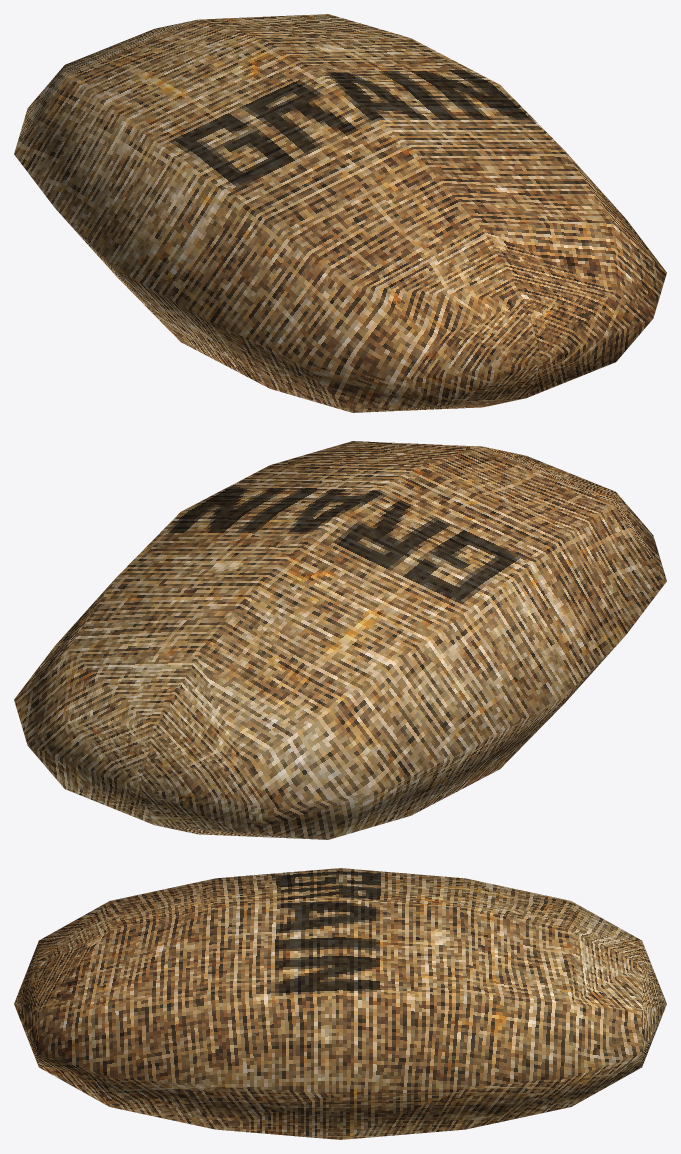
The model's file is BagGrain.glb.
3 renders of one model, top to bottom at view 1: azimuth 30°, elevation 25°; view 2: azimuth 150°, elevation 25°; view 3: azimuth 270°, elevation 25°, orthographic. The views are drawn at different scales.
Visible parts, largest first — view 1: BagGrain; view 2: BagGrain; view 3: BagGrain.
Part boxes in pixels (box(x1,y1,x2,y2)): BagGrain: box(14, 14, 666, 412); BagGrain: box(14, 441, 666, 839); BagGrain: box(14, 868, 666, 1139).
Size of the model in its own units: 0.9542 by 0.5125 by 1.47.
1 material, 1 textured.
